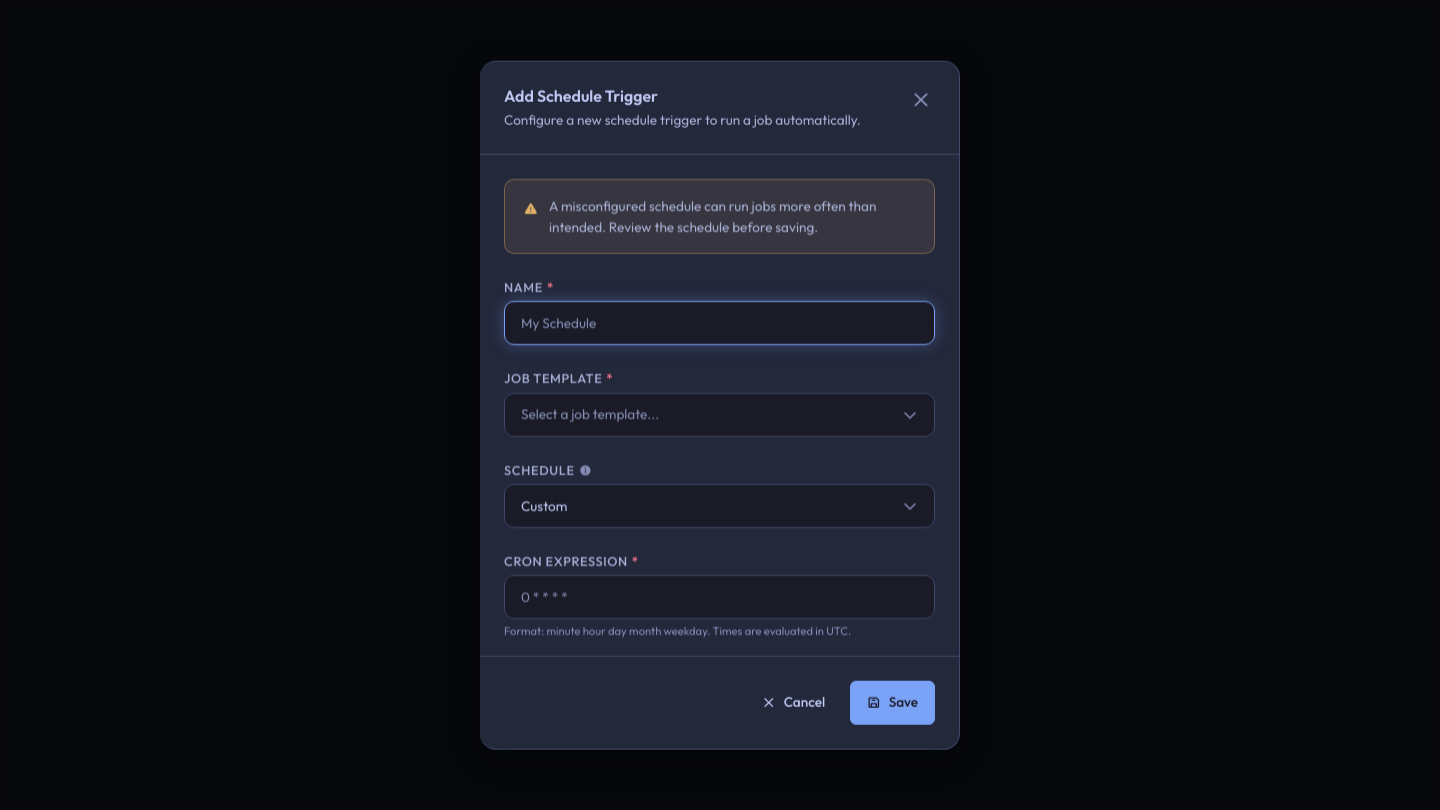
Test: ScheduleTriggerForm template field › shows error when template is not selected on submit
In the field labelled "Name *": (720,323) [505,305,934,341], type "Test Trigger"
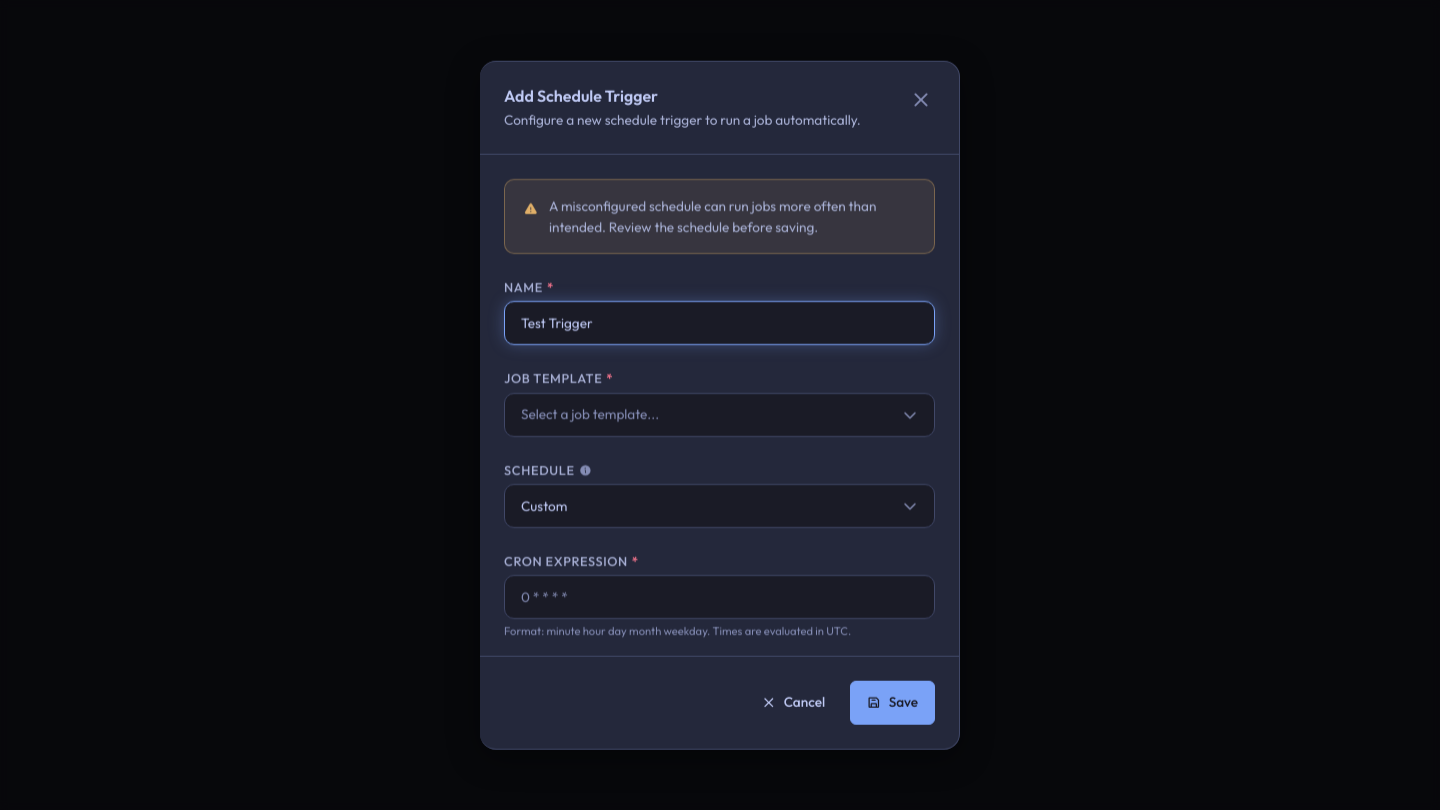
Click the button "Save": (893,702) [850,680,935,724]
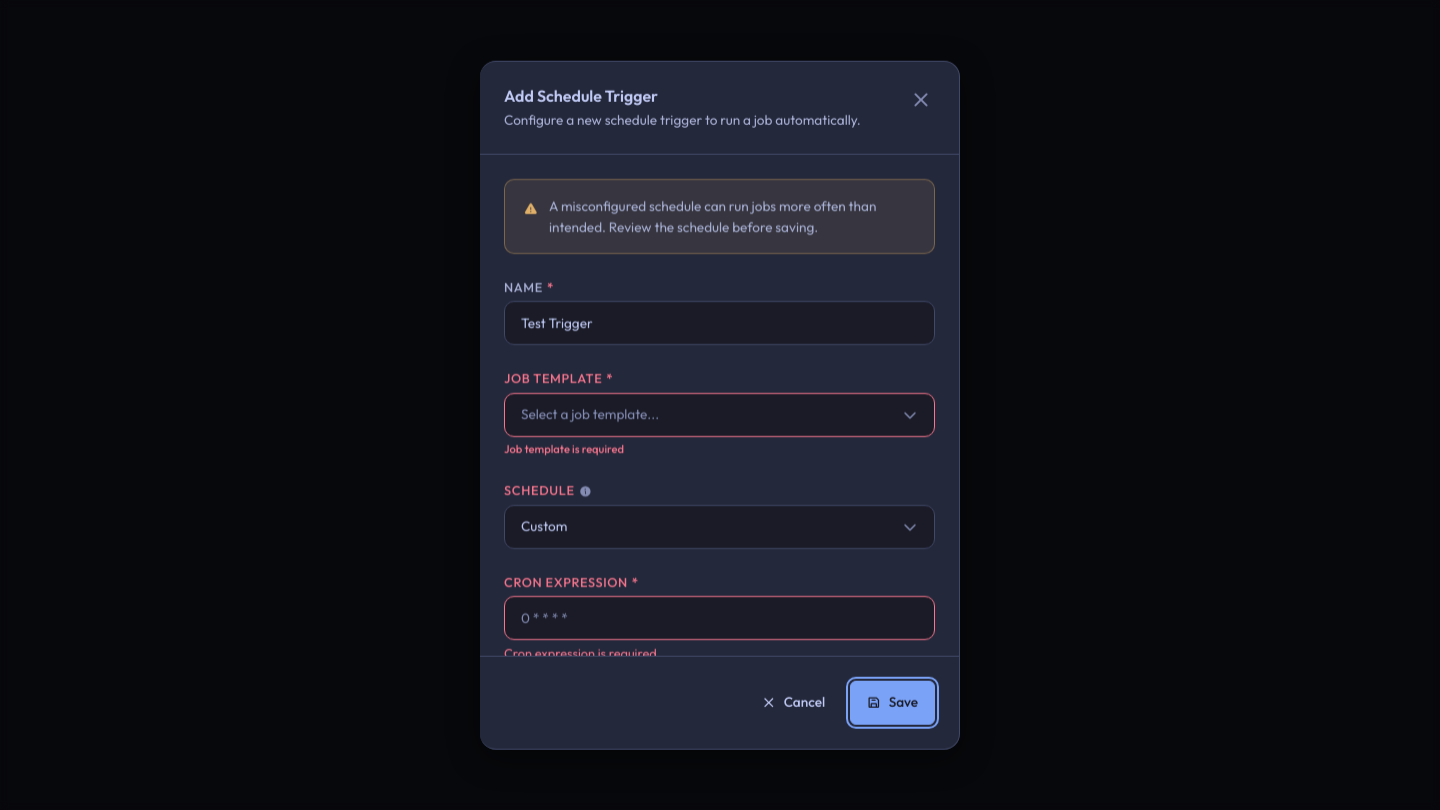
Now the text "Job template is required" is shown, box [504,441,624,455]
